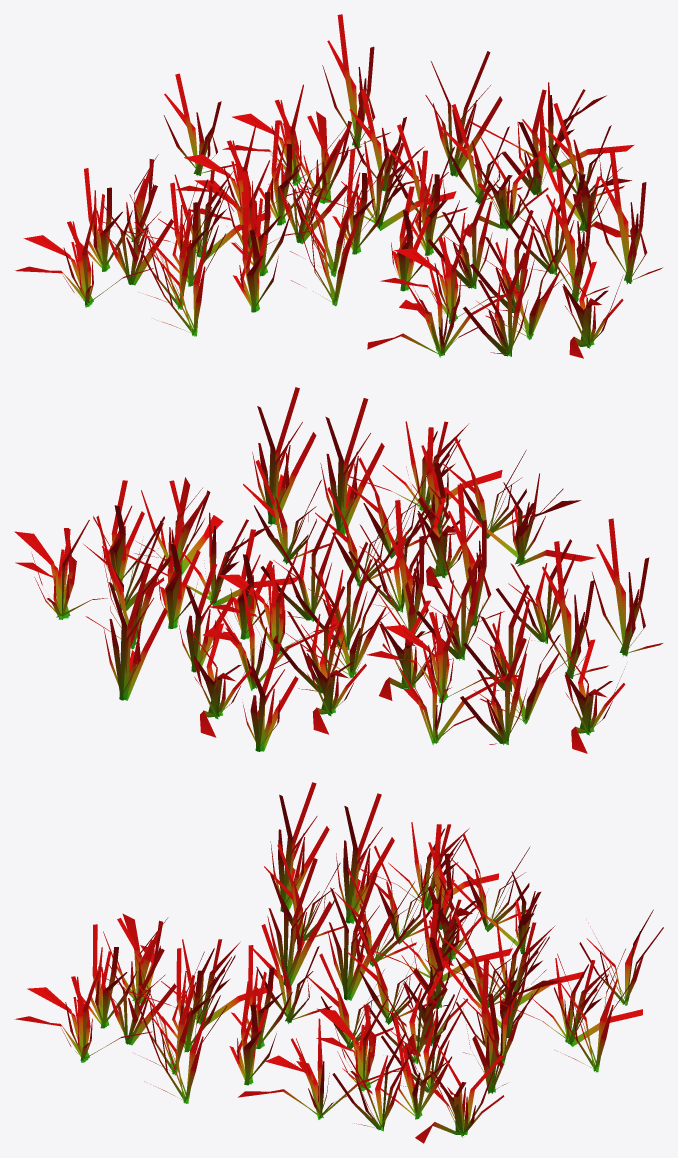
Rendered from NewGrass.fbx.
3 views of the same model, one above another, from view 1: azimuth 30°, elevation 25°; view 2: azimuth 150°, elevation 25°; view 3: azimuth 270°, elevation 25° (orthographic). The views are drawn at different scales.
Parts seen in each view (by area): view 1: polySurface408; view 2: polySurface408; view 3: polySurface408.
Part boxes in pixels (left/top/right/bottom): polySurface408: left=15, top=14, right=662, bottom=358; polySurface408: left=14, top=387, right=662, bottom=753; polySurface408: left=14, top=782, right=663, bottom=1143.
Size of the model in its own units: 0.0229 by 0.00519 by 0.0221.
